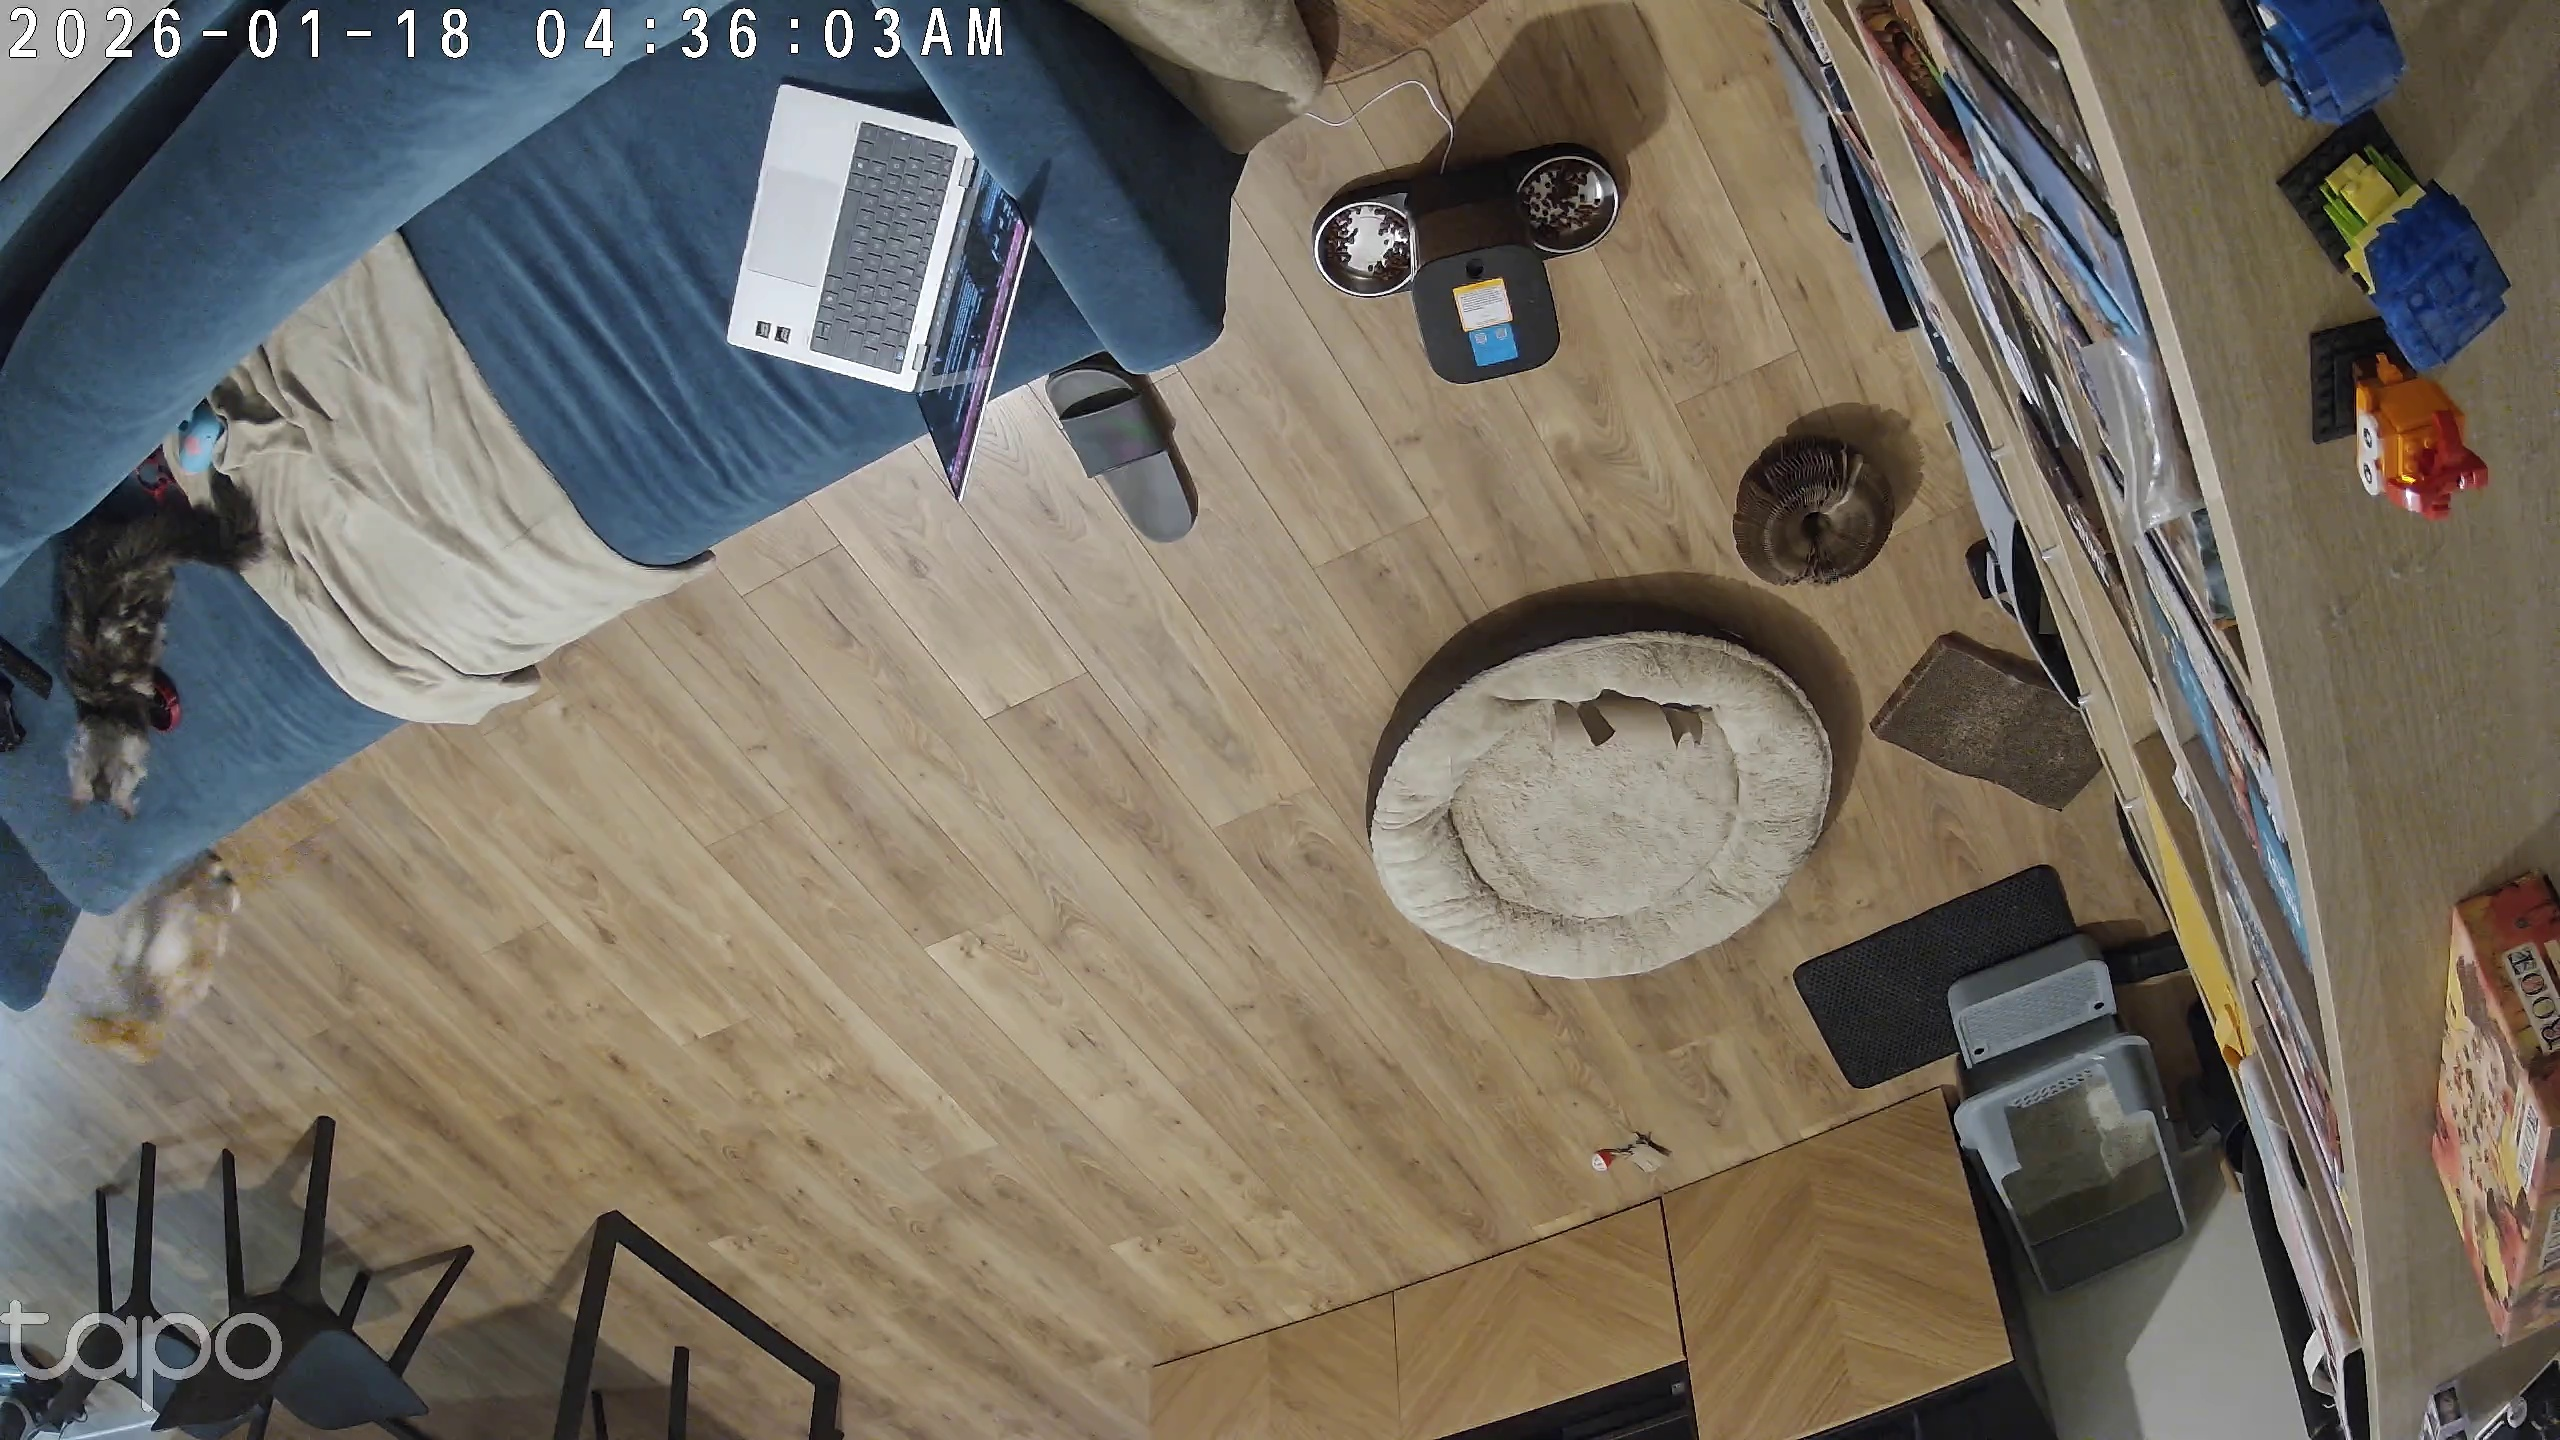Nala: (47, 461, 267, 821)
Simba: (69, 835, 299, 1085)
